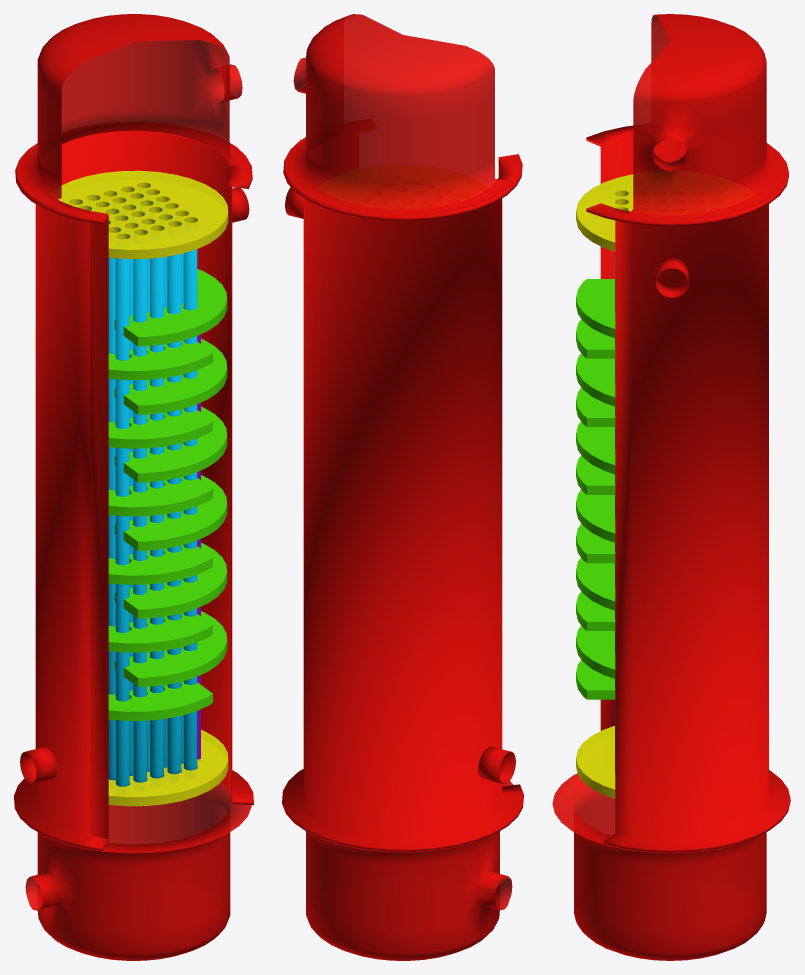
File: heat_exchanger.glb
The picture shows the model from 3 angles, left to right: view 1: azimuth 30°, elevation 25°; view 2: azimuth 150°, elevation 25°; view 3: azimuth 270°, elevation 25°; orthographic projection.
Parts seen in each view (by area): view 1: Cylinder.006, Circle.001, Cylinder.024, Circle; view 2: Cylinder.006; view 3: Cylinder.006, Circle.001, Circle.
Part boxes in pixels (<box>): Cylinder.006: <box>14,14,253,960</box>; Circle.001: <box>108,269,227,720</box>; Cylinder.024: <box>108,249,197,786</box>; Circle: <box>58,170,228,806</box>; Cylinder.006: <box>282,14,523,960</box>; Cylinder.006: <box>552,14,790,960</box>; Circle.001: <box>576,279,615,699</box>; Circle: <box>576,174,633,798</box>.
Bounding box in the file's own units: 0.3786 × 1.52 × 0.3674.
